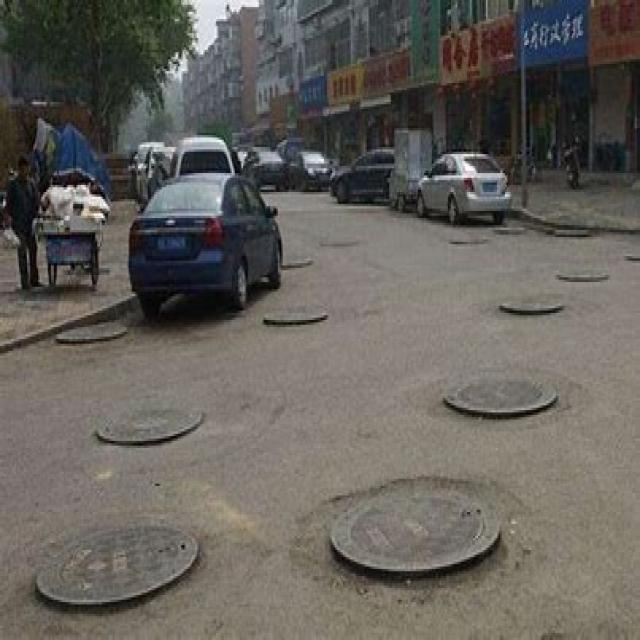manhole: (319, 475, 522, 583), (34, 521, 203, 611), (91, 391, 212, 453), (442, 365, 563, 424), (493, 280, 592, 335), (47, 299, 142, 351), (259, 308, 330, 334)
